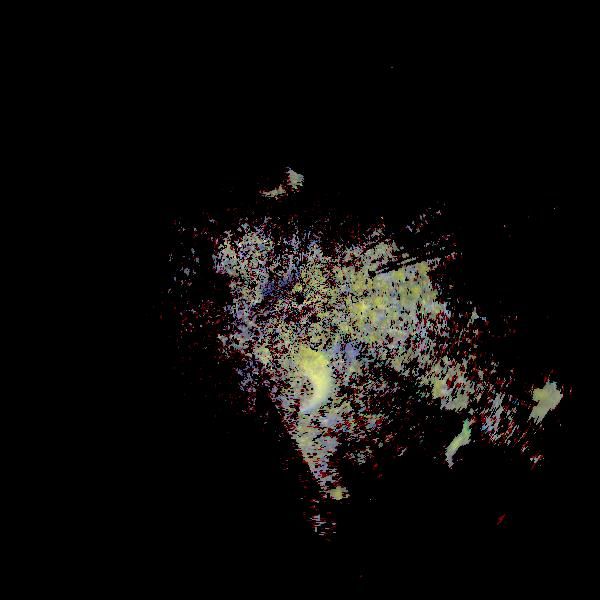roost: (268, 350, 337, 419), (245, 147, 302, 204), (444, 428, 495, 479)
